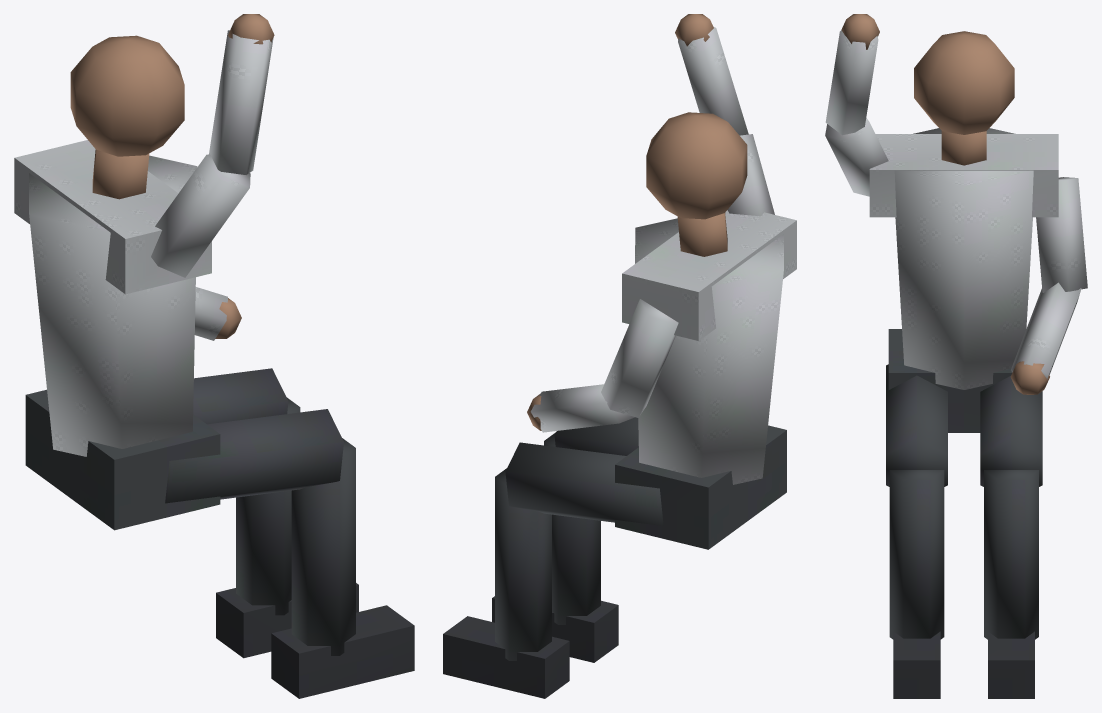
Rendered from crowd-seated-2_mobile.glb.
3 renders of one model, left to right at view 1: azimuth 30°, elevation 25°; view 2: azimuth 150°, elevation 25°; view 3: azimuth 270°, elevation 25°, orthographic. The views are drawn at different scales.
Visible parts, largest first — view 1: clothing, dark-steel, skin, rubber; view 2: clothing, dark-steel, skin, rubber; view 3: clothing, dark-steel, skin, rubber.
Boxes of the visible parts, x1,y1,x2,y2 form: clothing: [14, 30, 273, 456]; dark-steel: [25, 368, 355, 655]; skin: [70, 14, 274, 338]; rubber: [216, 583, 414, 698]; clothing: [530, 27, 796, 484]; dark-steel: [495, 417, 786, 660]; skin: [527, 14, 747, 430]; rubber: [443, 596, 618, 698]; clothing: [825, 30, 1087, 389]; dark-steel: [886, 329, 1042, 639]; skin: [841, 14, 1049, 394]; rubber: [893, 631, 1034, 698].
Size of the model in its own units: 0.7148 by 1.42 by 0.556.
Materials: 4 (3 with a texture image).
